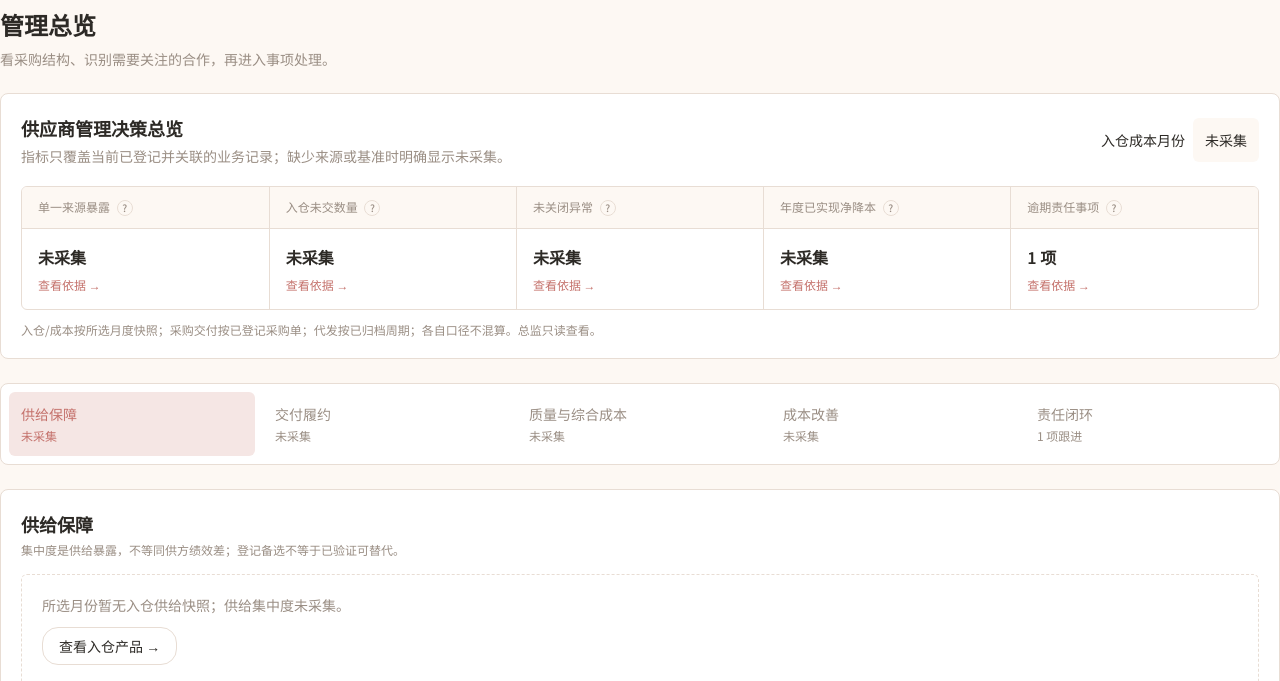
Test: shows only escalated lifecycle items in the director action queue
Step 1. Click the tab "责任闭环 1 项跟进" → (1148, 424), box [1025,392,1271,456]
(page scrolled)
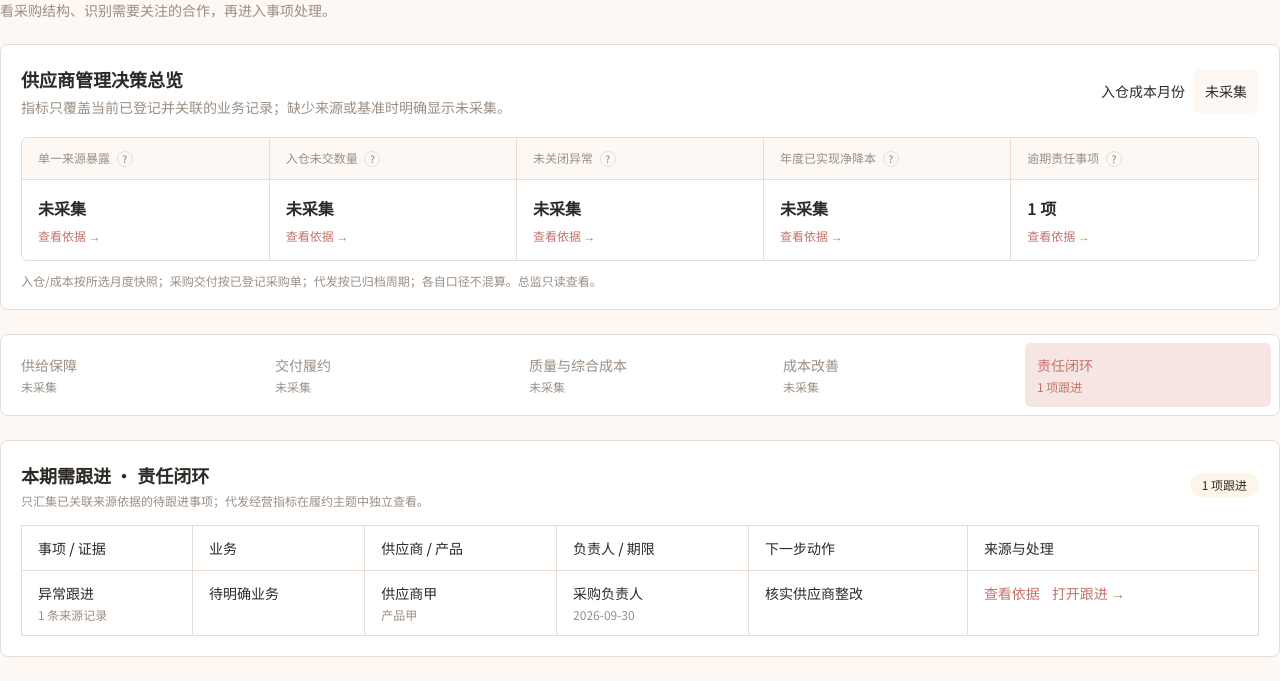
Result: the table named "本期需跟进" shows "异常跟进" at [38,583,94,603]
Result: the table named "本期需跟进" shows "采购负责人" at [573,583,643,603]
Result: the table named "本期需跟进" shows "核实供应商整改" at [765,583,863,603]
